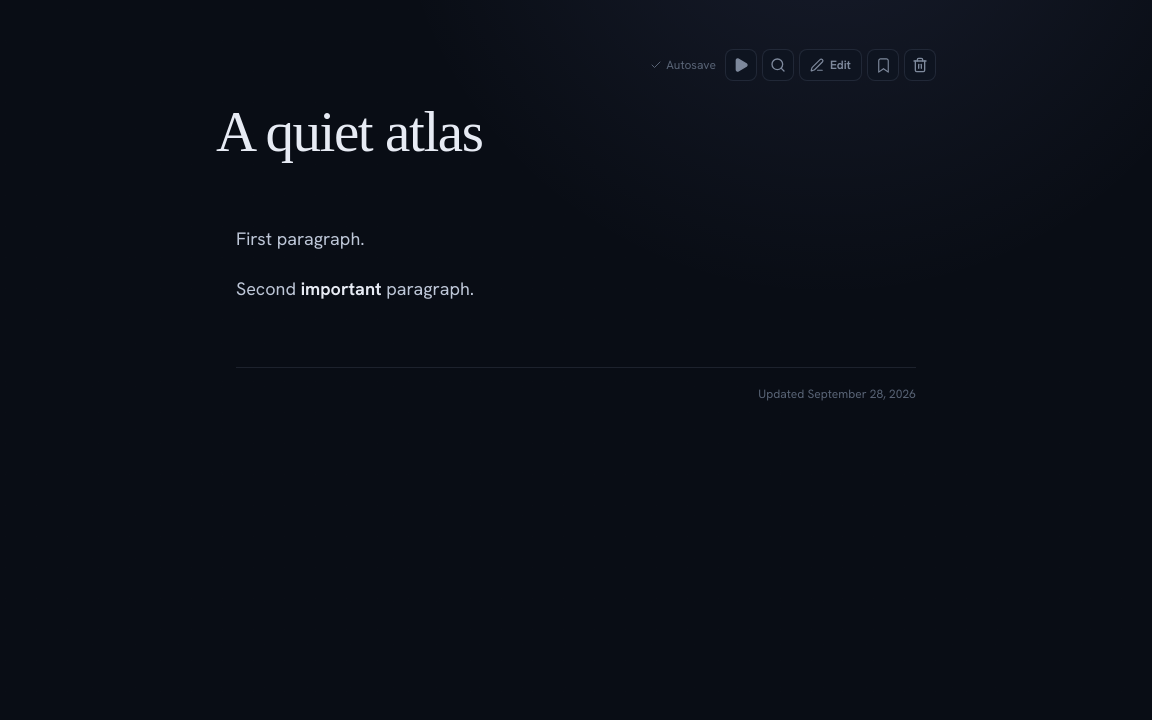
Test case: written-note playback tracking › tracks displayed words without remounting prose and makes dimming optional
Click the button named "Play note" at (741, 65), box [725,49,757,81]
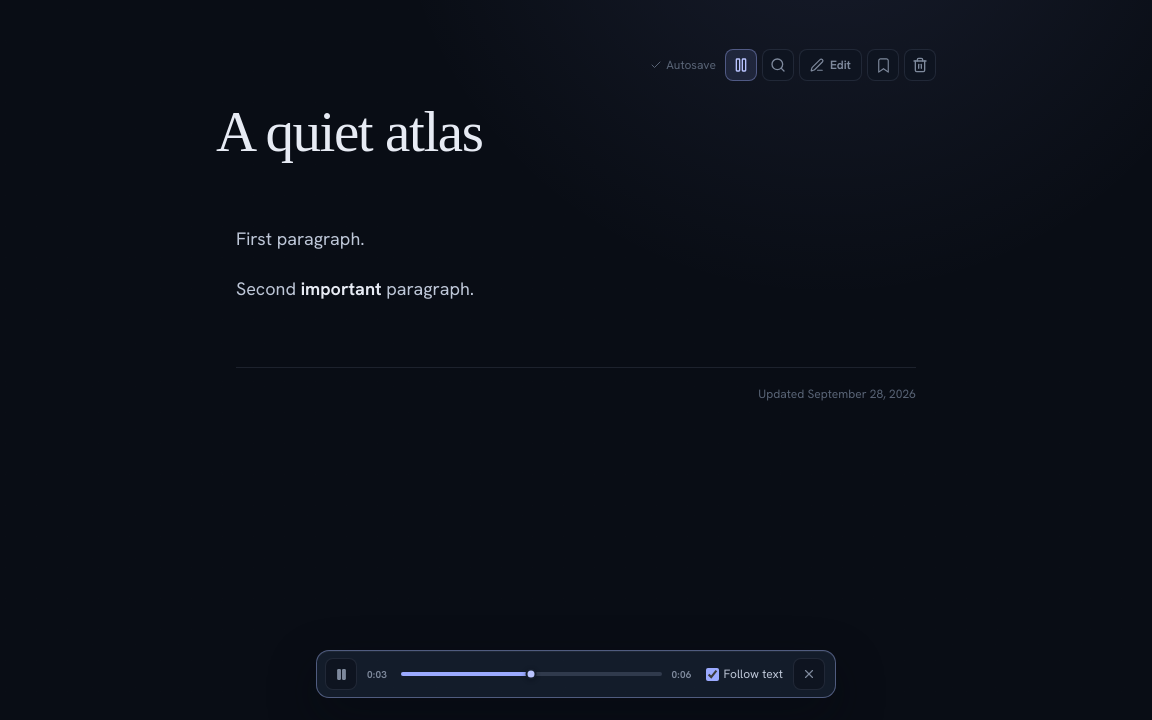
Expected: the text "important" is shown, [301,277,382,300]
Click the checkbox labelled "Follow text" at (712, 674), box [706,668,719,680]
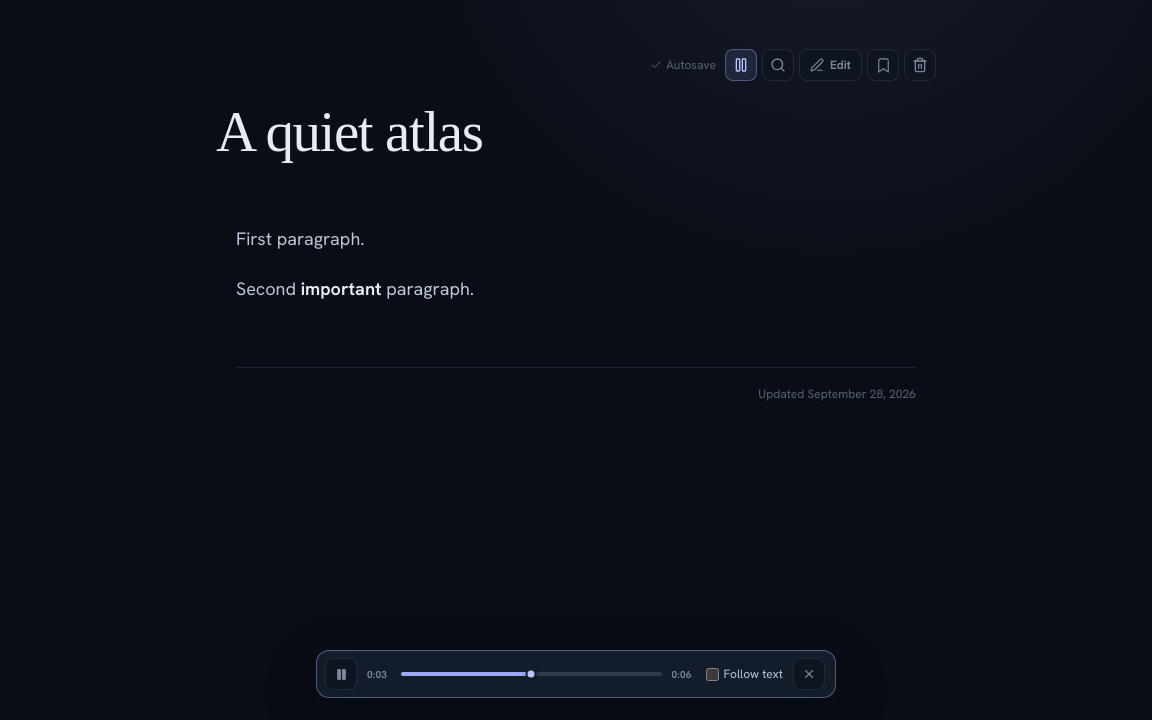
Click the checkbox labelled "Follow text" at (712, 674), box [706,668,719,680]
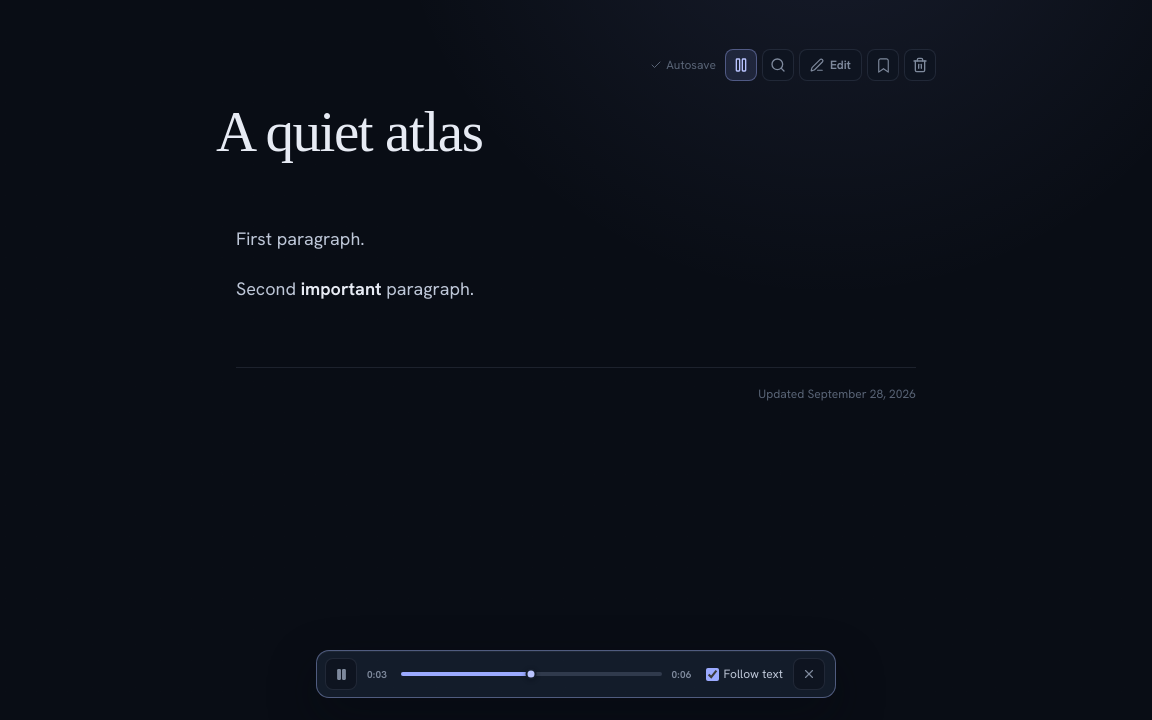
Click the button named "Stop narration" at (809, 674), box [793,658,825,690]
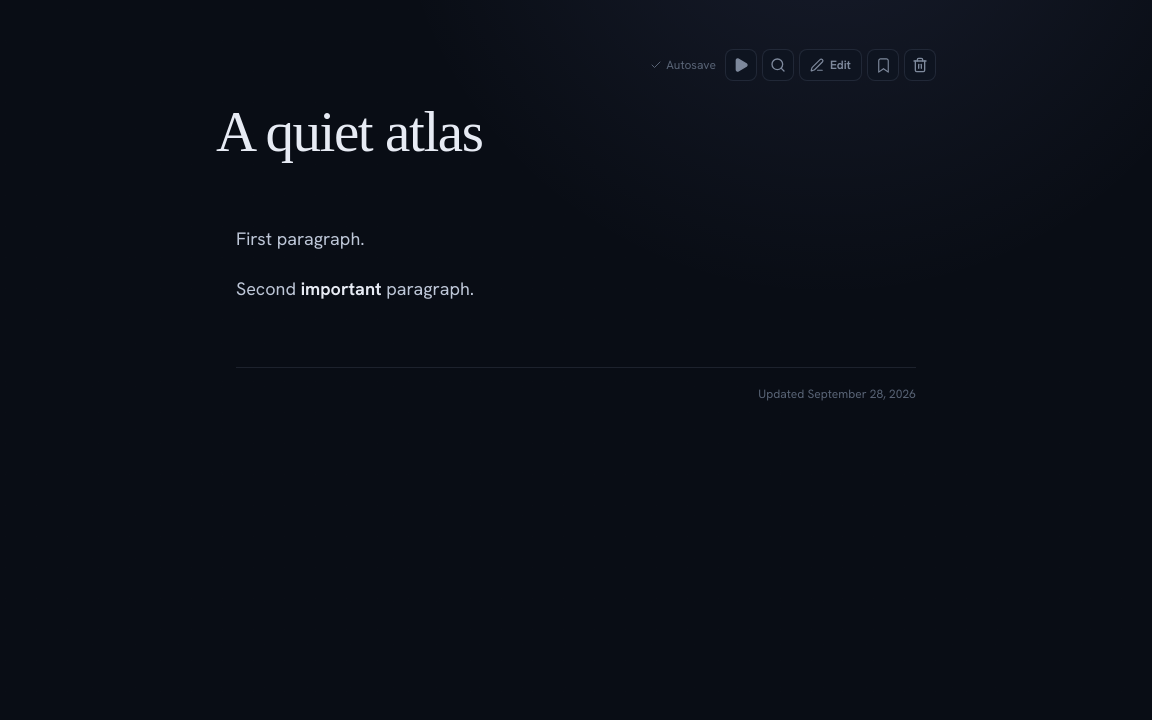
Expected: the element with test id "note-listen-playhead" is gone
